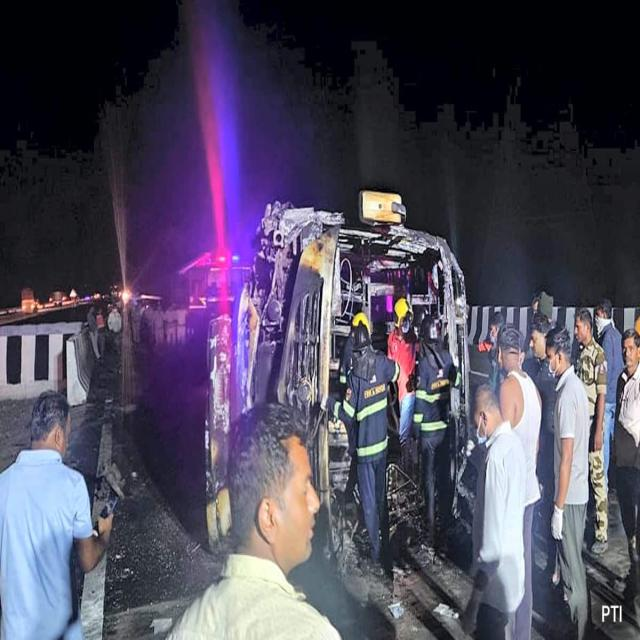accident: (235, 193, 470, 552)
